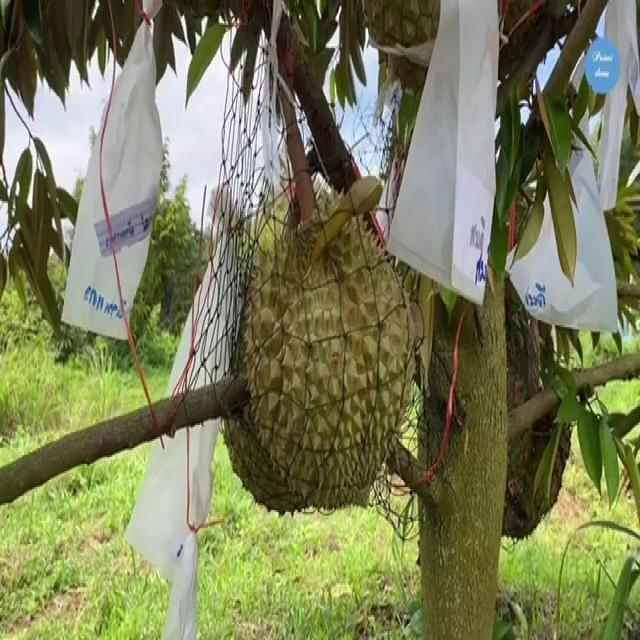durian: (234, 177, 418, 516)
